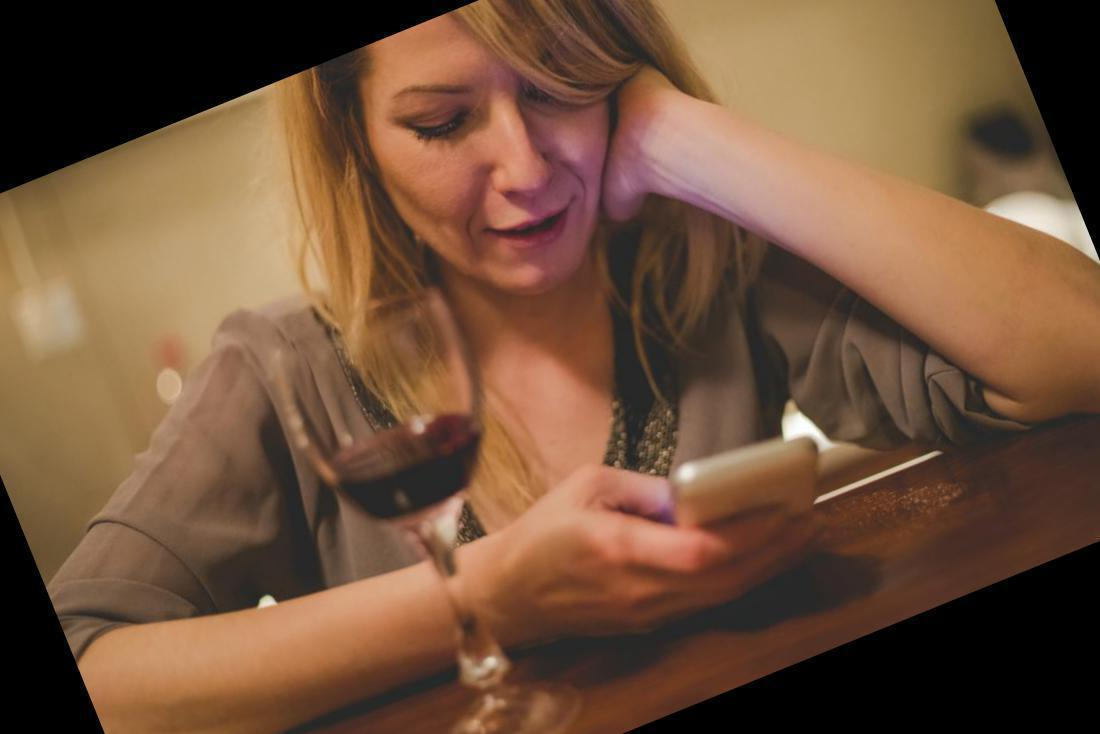Drunk: (389, 40, 591, 285)
